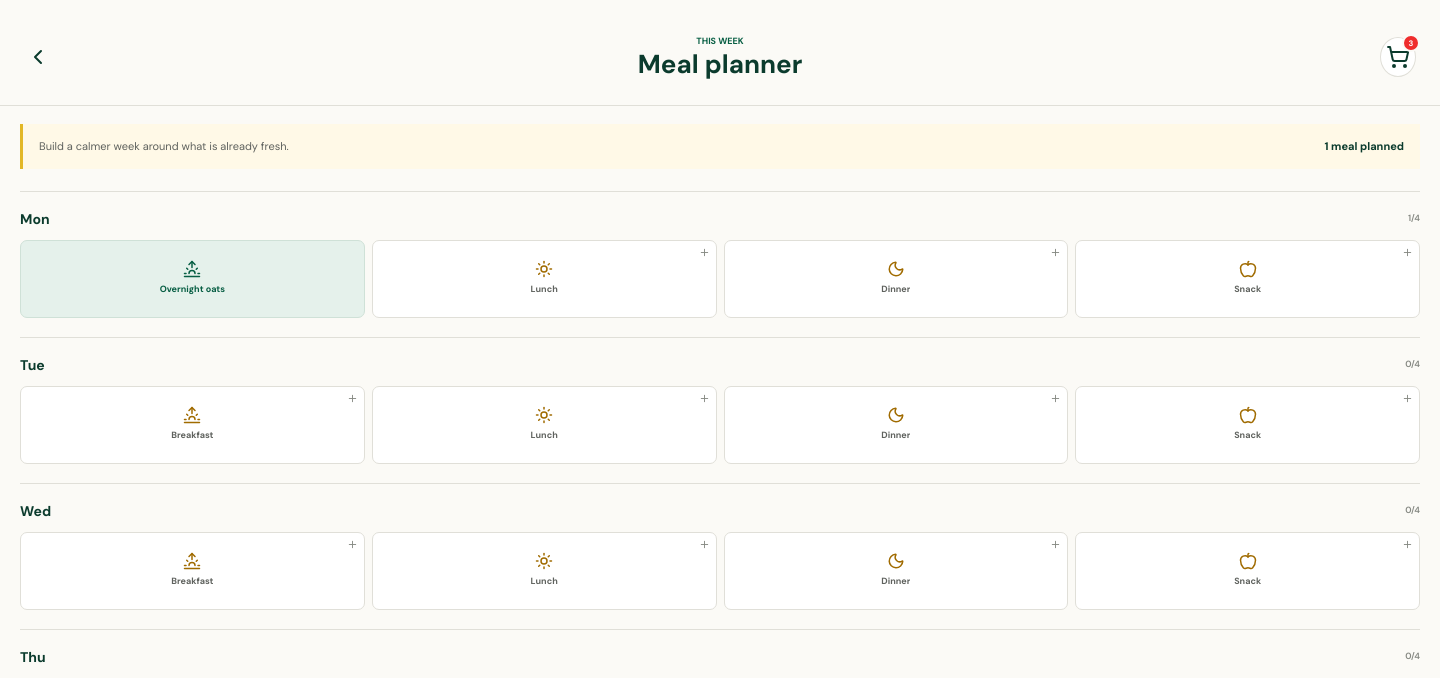
it: MealPlanner › adds missing ingredients to the shopping list when the missing count is greater than zero
The image size is (1440, 678).
Expected: the heading "Meal planner" is shown, [638,47,802,81]
Click the button "3" at (1398,56), box [1380,36,1416,76]
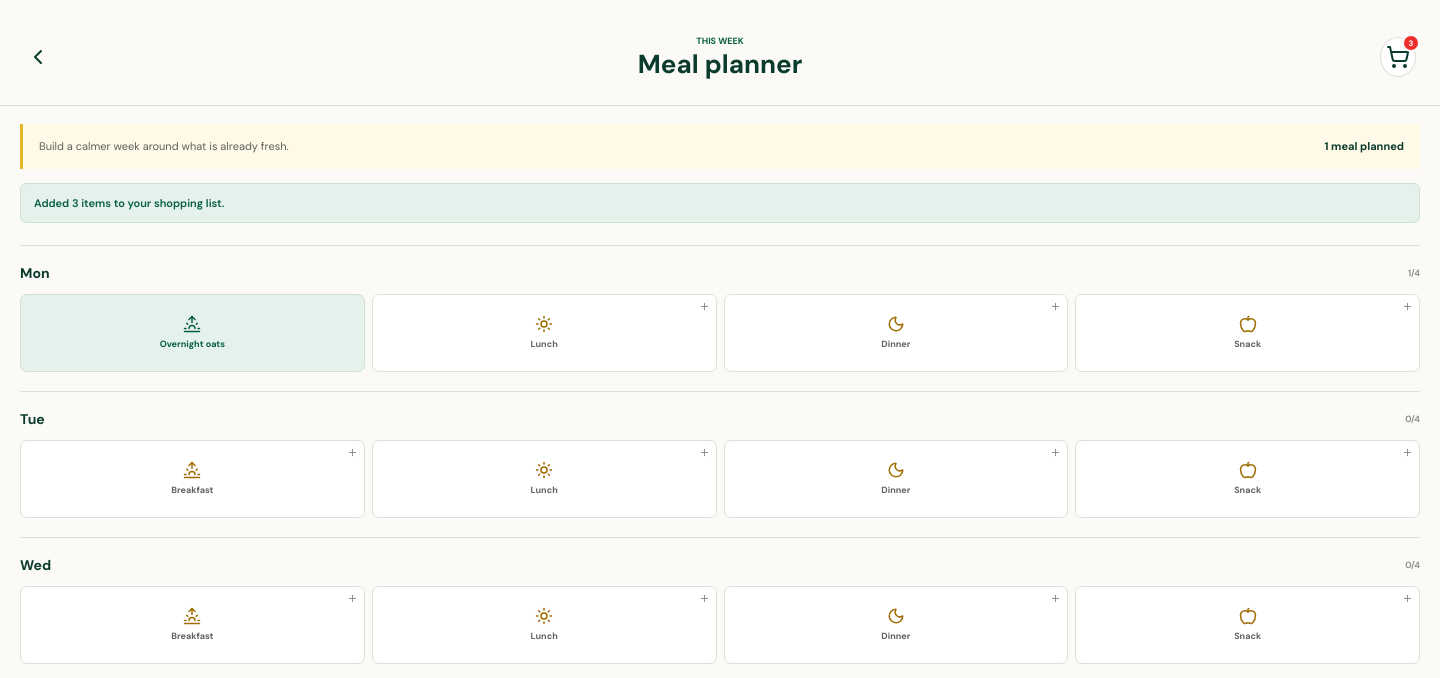
Now the message reads "Added 3 items to your shopping list.", box [20,182,1420,223]
